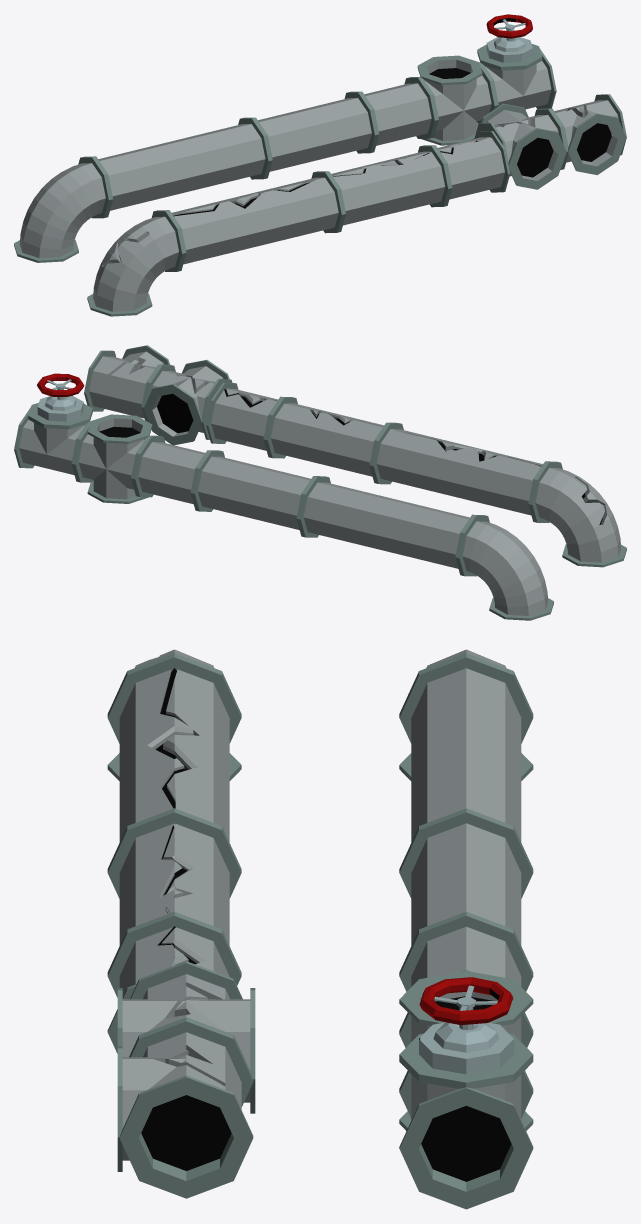
Rendered from Modular Pipe Set.glb.
3 views of the same model, one above another, from view 1: azimuth 30°, elevation 25°; view 2: azimuth 150°, elevation 25°; view 3: azimuth 270°, elevation 25° (orthographic). The views are drawn at different scales.
Visible parts, largest first — view 1: Pipe_Long, Pipe_broken_long, Pipe_broken_90Angle, Pipe_90Angle, Pipe_Medium, Pipe_broken_medium, Pipe_4Way, Pipe_broken_4Way, Pipe_broken_3Way, Pipe_Short, Pipe_broken_short, Pipe_3Way (+1 smaller); view 2: Pipe_Long, Pipe_broken_long, Pipe_90Angle, Pipe_broken_90Angle, Pipe_broken_medium, Pipe_Medium, Pipe_4Way, Pipe_broken_4Way, Pipe_broken_3Way, Pipe_Short, Pipe_broken_short, Pipe_3Way (+1 smaller); view 3: Pipe_broken_3Way, Pipe_Long, Pipe_broken_long, Pipe_3Way, Pipe_Medium, Pipe_broken_medium, Valve, Pipe_broken_4Way, Pipe_Short, Pipe_broken_short, Pipe_4Way, Pipe_90Angle (+1 smaller).
Part boxes in pixels (x1,y1,x2,y2): Pipe_Long: (82,118,270,217); Pipe_broken_long: (156,171,343,271); Pipe_broken_90Angle: (87,210,184,316); Pipe_90Angle: (14,157,110,262); Pipe_Medium: (242,92,376,178); Pipe_broken_medium: (316,145,450,232); Pipe_4Way: (409,55,496,145); Pipe_broken_4Way: (474,103,566,189); Pipe_broken_3Way: (540,94,626,175); Pipe_Short: (349,77,436,152); Pipe_broken_short: (422,131,510,206); Pipe_3Way: (477,49,556,109); Pipe_Long: (298,476,485,575); Pipe_broken_long: (371,423,558,522); Pipe_90Angle: (457,515,553,620); Pipe_broken_90Angle: (530,462,626,567); Pipe_broken_medium: (265,397,398,483); Pipe_Medium: (192,450,325,536); Pipe_4Way: (73,414,160,503); Pipe_broken_4Way: (143,360,232,445); Pipe_broken_3Way: (84,345,171,421); Pipe_Short: (133,436,220,510); Pipe_broken_short: (206,382,293,457); Pipe_3Way: (14,407,92,481); Pipe_broken_3Way: (117,1019,253,1198); Pipe_Long: (399,655,533,870); Pipe_broken_long: (107,655,241,870); Pipe_3Way: (399,1059,533,1209); Pipe_Medium: (399,810,533,973); Pipe_broken_medium: (107,810,241,973); Valve: (399,977,533,1086); Pipe_broken_4Way: (117,961,255,1113); Pipe_Short: (399,914,533,1031); Pipe_broken_short: (107,914,241,1053); Pipe_4Way: (399,971,533,1130); Pipe_90Angle: (399,649,533,780).
Size of the model in its own units: 3.27 by 0.676 by 1.16.
1 material, 1 textured.
